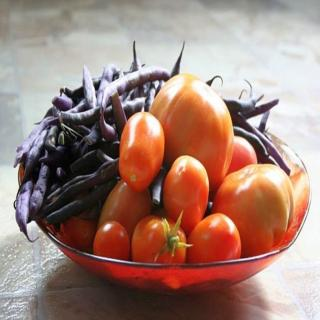tomato: (151, 73, 237, 196), (212, 157, 296, 259), (161, 153, 211, 235), (118, 111, 164, 196), (95, 181, 152, 247), (183, 208, 240, 266), (134, 212, 190, 264), (92, 224, 137, 261), (226, 134, 255, 178)
